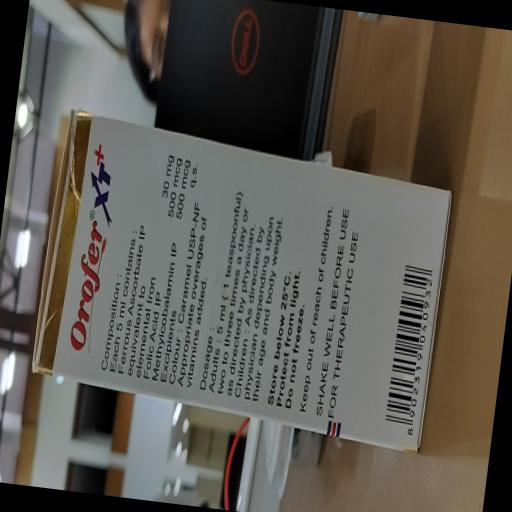iron-tonic: (60, 130, 126, 364)
medicine: (22, 110, 457, 435)
